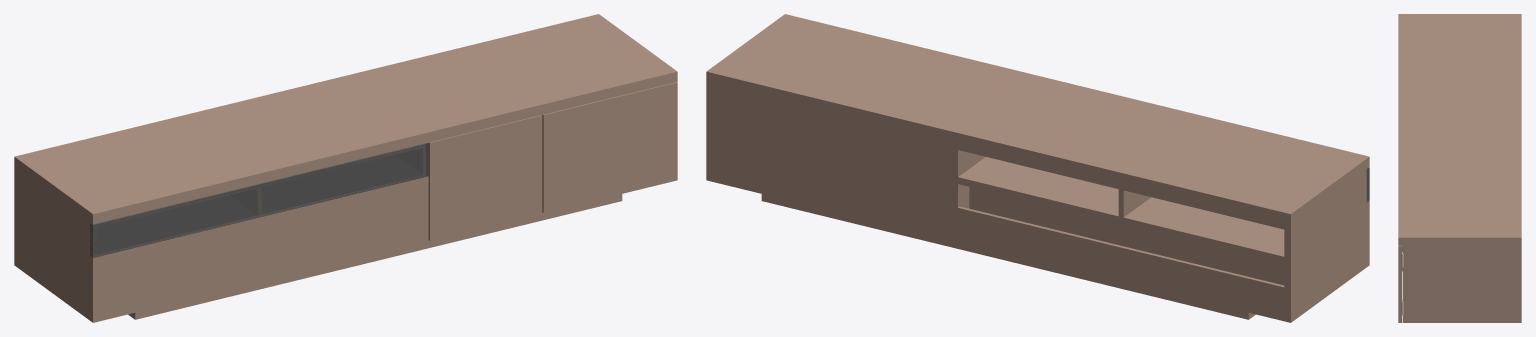
Rendered from テレビボード.fbx.
3 renders of one model, left to right at view 1: azimuth 30°, elevation 25°; view 2: azimuth 150°, elevation 25°; view 3: azimuth 270°, elevation 25°, orthographic. The views are drawn at different scales.
Parts seen in each view (by area): view 1: body, 引き出し左, 戸, 引き出し中; view 2: body; view 3: body, 戸.
Part boxes in pixels (box(x1,y1,x2,y2)): body: box(14, 14, 677, 320); 引き出し左: box(90, 143, 428, 322); 戸: box(542, 82, 677, 212); 引き出し中: box(428, 115, 542, 240); body: box(706, 14, 1369, 322); body: box(1398, 14, 1521, 322); 戸: box(1398, 245, 1402, 322).
Bounding box in the file's own units: 180 × 36 × 42.
